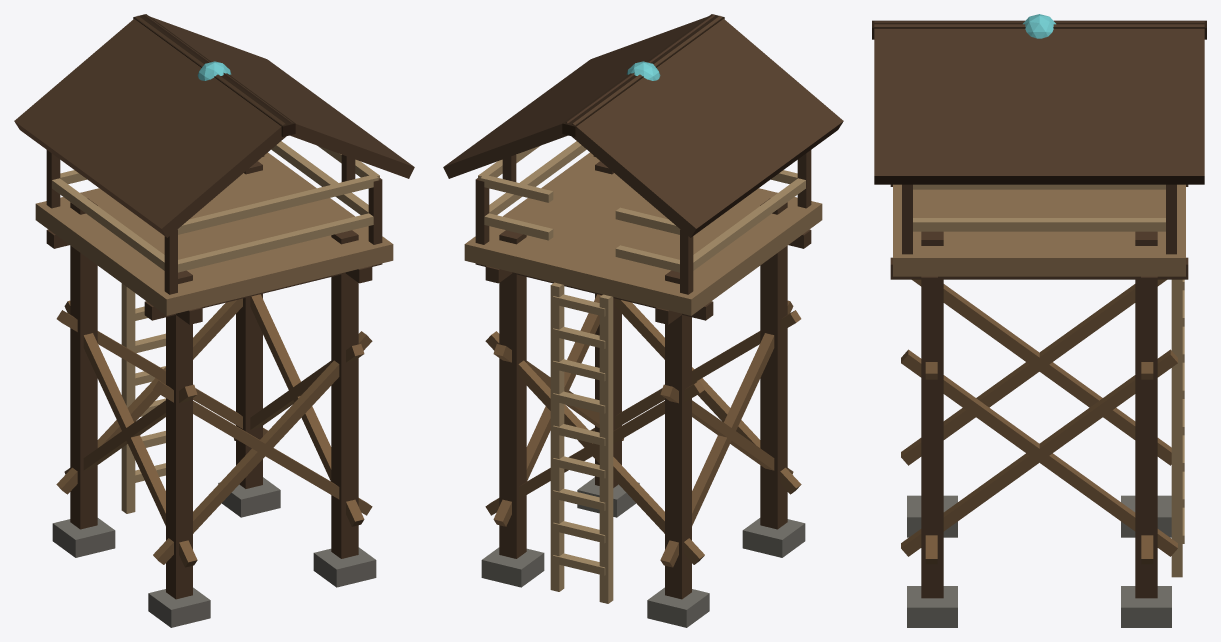
File: tidefall_flood_watchtower_polyfork_style.glb
3 views of the same model, side by side, from view 1: azimuth 30°, elevation 25°; view 2: azimuth 150°, elevation 25°; view 3: azimuth 270°, elevation 25° (orthographic). The views are drawn at different scales.
Parts seen in each view (by area): view 1: FloodWatchtower; view 2: FloodWatchtower; view 3: FloodWatchtower.
Boxes of the visible parts, left/top/right/bottom form: FloodWatchtower: left=14, top=14, right=414, bottom=627; FloodWatchtower: left=443, top=14, right=843, bottom=627; FloodWatchtower: left=872, top=14, right=1206, bottom=627.
Size of the model in its own units: 3.52 by 6.6 by 3.6.
